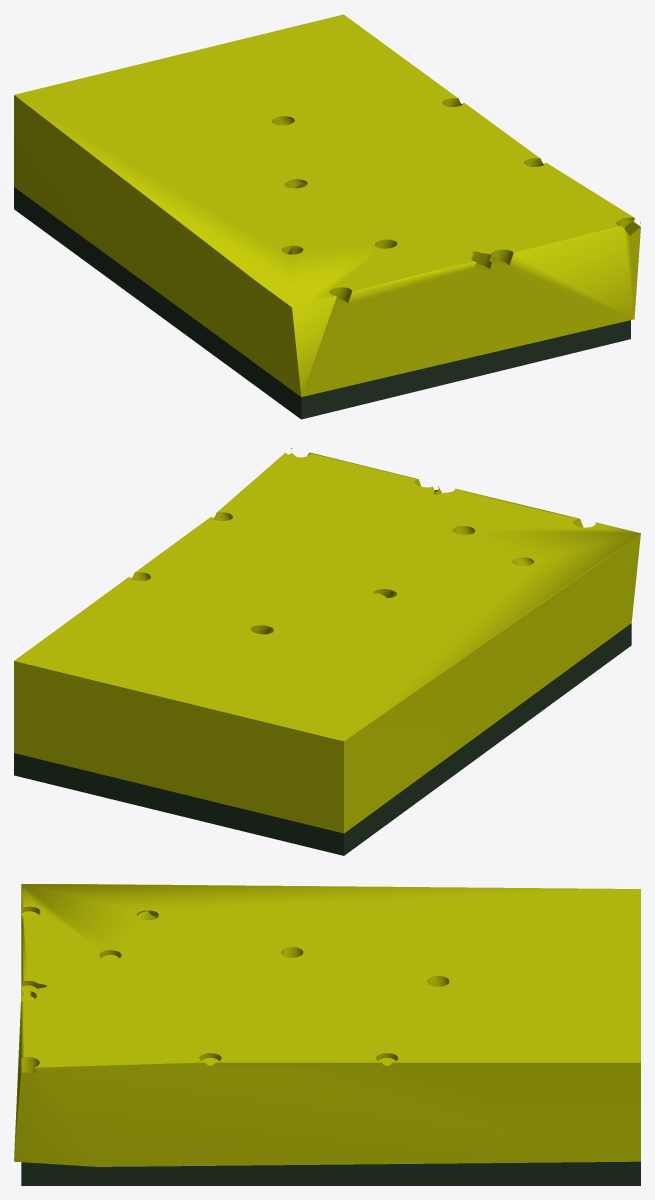
The model's file is 8fbd5a93-0f1e-490d-83cb-114748f1f67e.glb.
3 views of the same model, one above another, from view 1: azimuth 30°, elevation 25°; view 2: azimuth 150°, elevation 25°; view 3: azimuth 270°, elevation 25° (orthographic). The views are drawn at different scales.
Visible parts, largest first — view 1: Box002; view 2: Box002; view 3: Box002.
Part boxes in pixels (box(x1,y1,x2,y2)): Box002: box(14, 14, 640, 419); Box002: box(14, 448, 640, 855); Box002: box(14, 884, 640, 1185).
Size of the model in its own units: 20.65 by 6.47 by 29.8.
